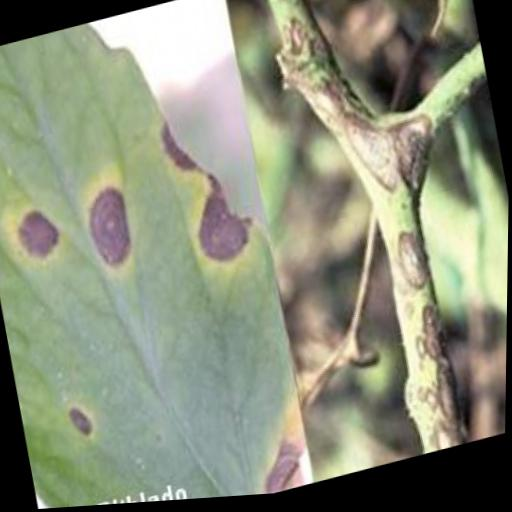Early Blight: (0, 0, 314, 512)
